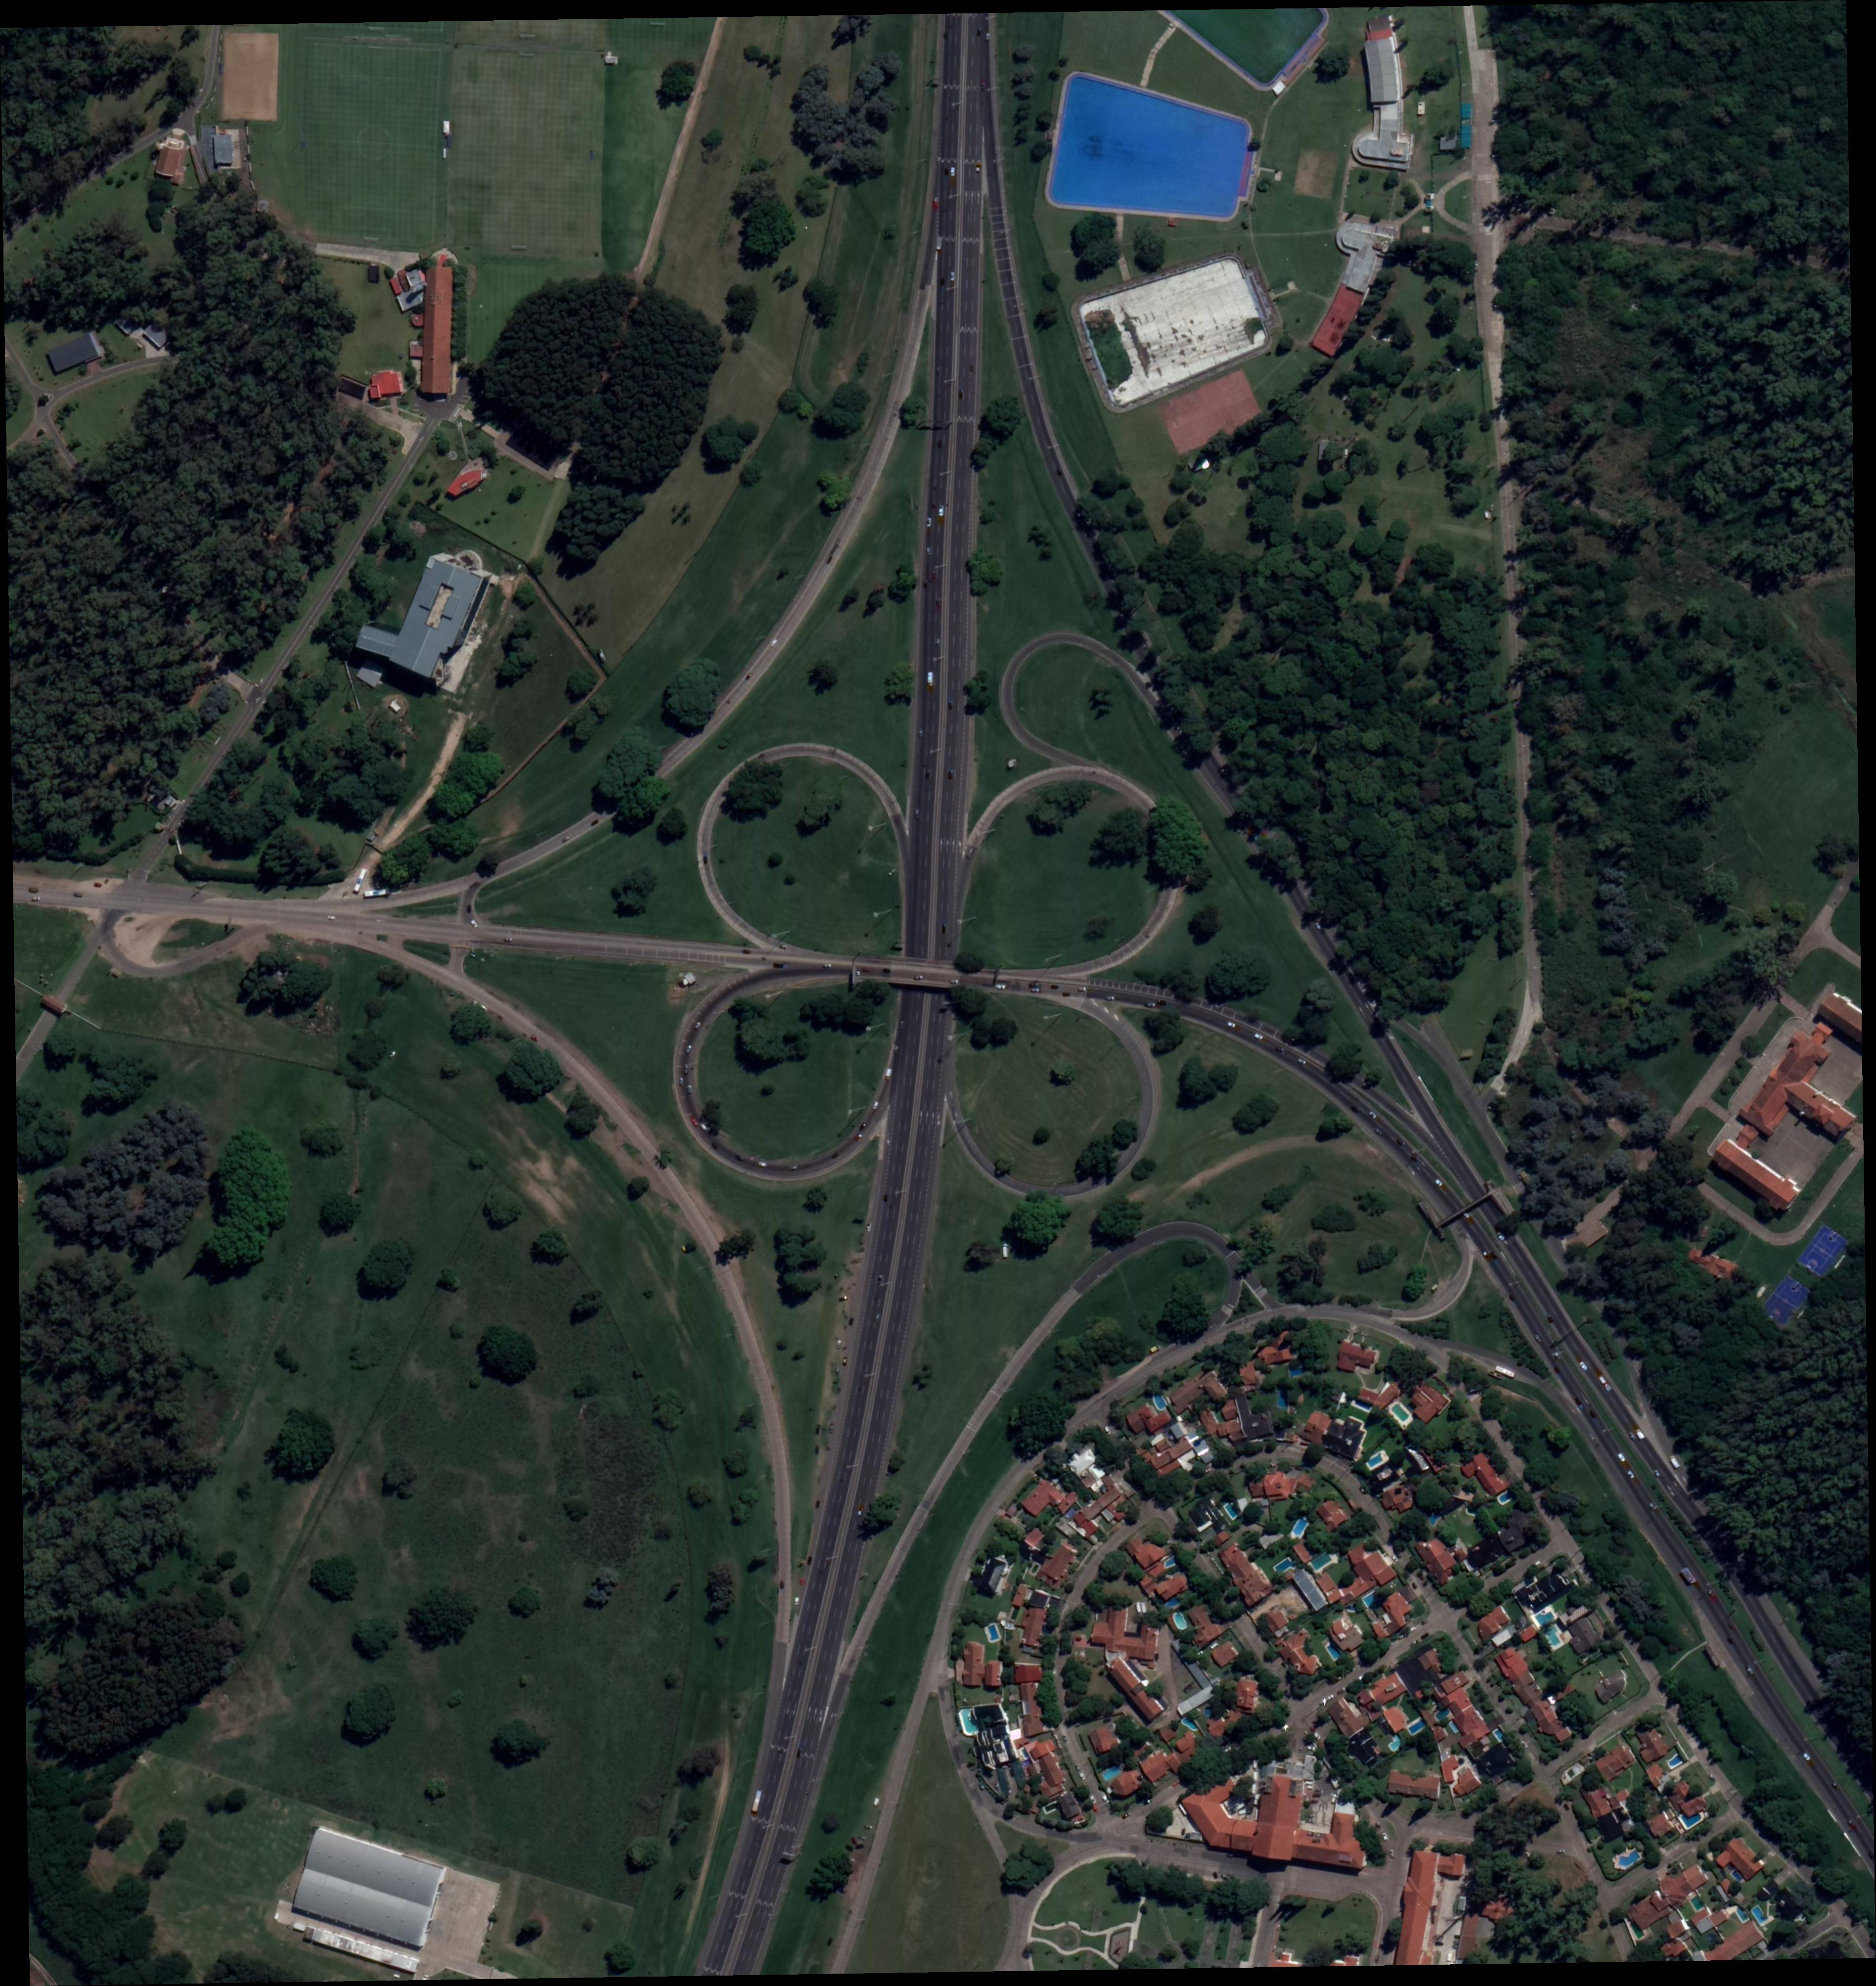bridge: (1437, 1192, 1491, 1226)
soccer ball field: (308, 44, 441, 241)
storage tank: (40, 393, 52, 406)
swimming pool: (1532, 1605, 1569, 1650), (1388, 1401, 1415, 1428), (1614, 1847, 1643, 1870), (959, 1707, 982, 1734), (1679, 1809, 1703, 1832), (1309, 1551, 1334, 1573), (1100, 1763, 1125, 1784), (1290, 1516, 1311, 1538), (1407, 1716, 1429, 1737), (1274, 1557, 1295, 1577), (1751, 1905, 1769, 1928), (1172, 1611, 1191, 1633), (1363, 1590, 1383, 1610), (1324, 1641, 1343, 1662), (1366, 1452, 1386, 1471), (1223, 1500, 1242, 1519), (1181, 1715, 1201, 1732), (1432, 1705, 1452, 1722), (1497, 1489, 1516, 1506), (1667, 1753, 1686, 1770), (1154, 1392, 1169, 1412), (1735, 1905, 1750, 1925), (1690, 1895, 1705, 1914), (1388, 1734, 1403, 1754), (1289, 1365, 1308, 1381), (986, 1624, 1001, 1643), (1354, 1399, 1374, 1413), (1492, 1727, 1507, 1744), (1163, 1555, 1181, 1570), (1164, 1596, 1181, 1610), (1278, 1391, 1290, 1408), (1429, 1511, 1443, 1527), (1449, 1720, 1461, 1733)
